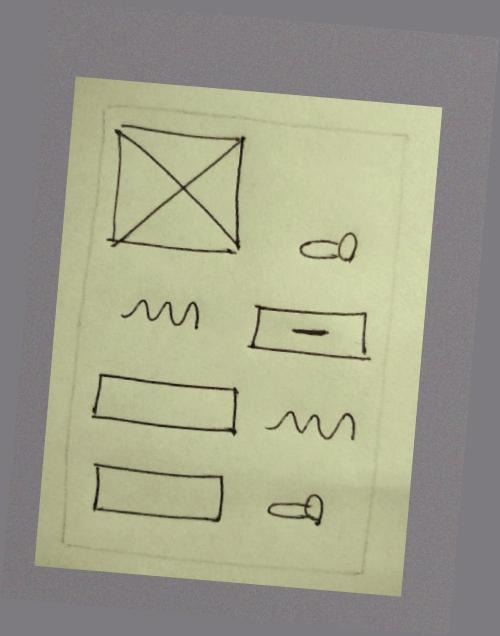button: (238, 298, 382, 371)
image: (99, 118, 252, 265)
switch: (287, 224, 376, 277), (259, 482, 336, 540)
text: (263, 397, 361, 452), (111, 287, 208, 337)
text_input: (84, 367, 245, 447), (81, 456, 233, 532)
